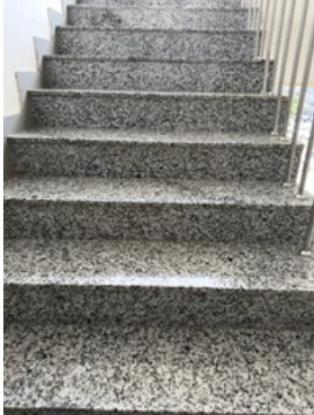stair: (8, 0, 314, 415)
